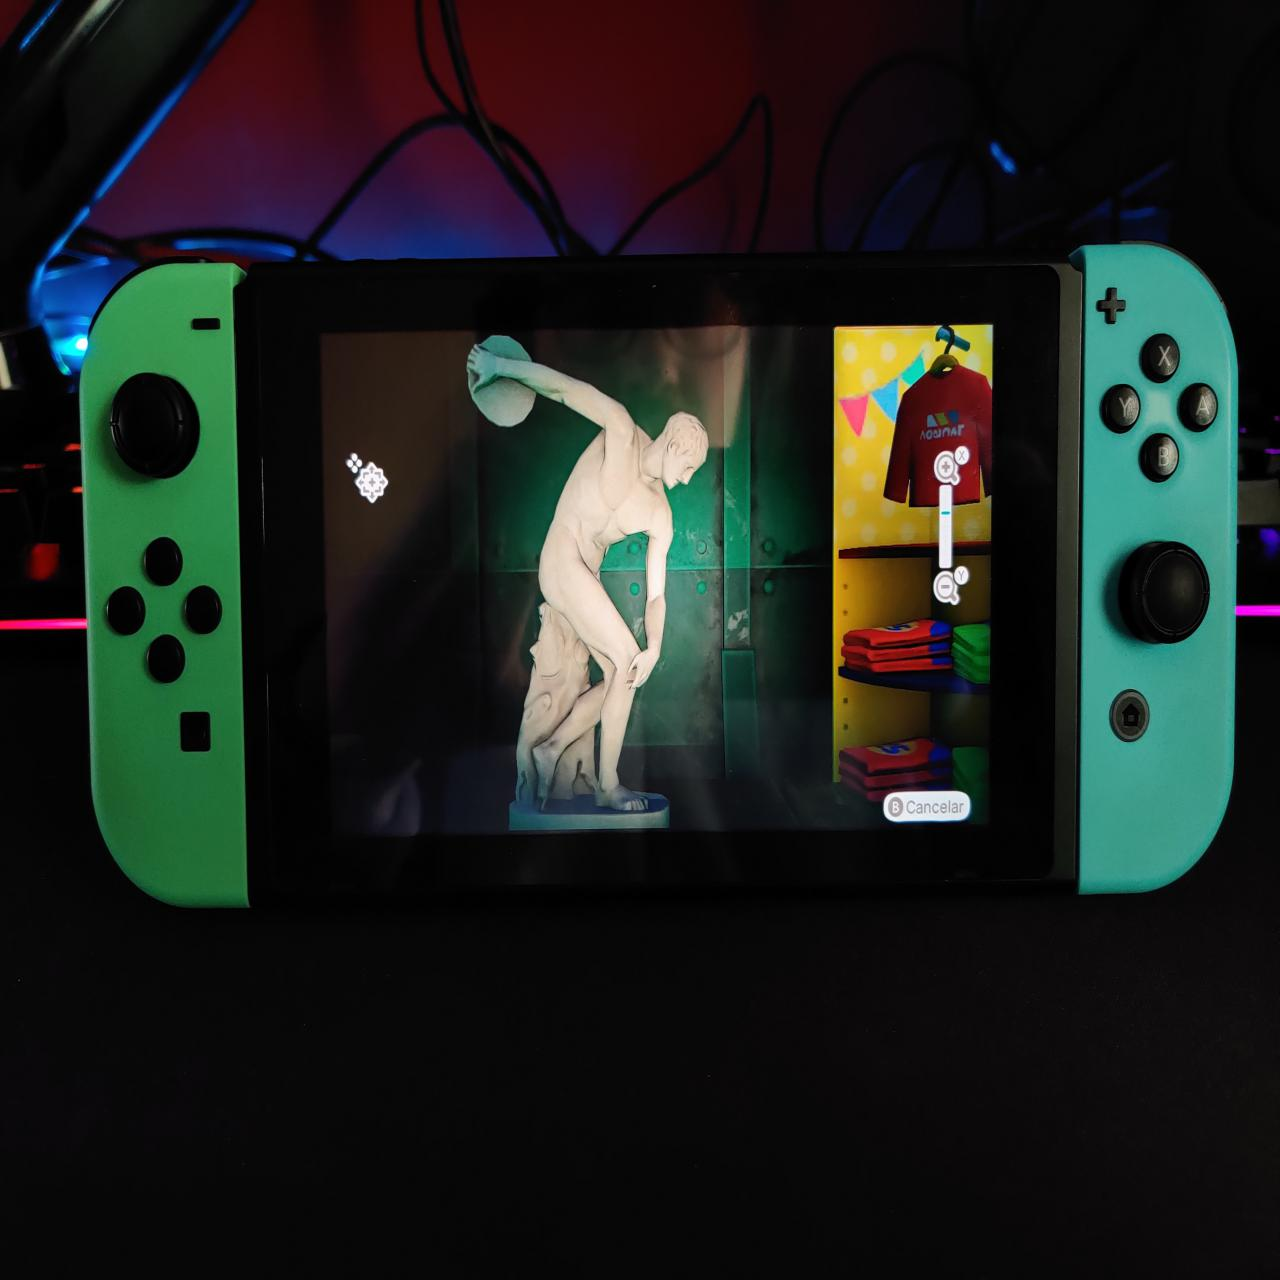Diskobolos: (462, 331, 719, 832)
